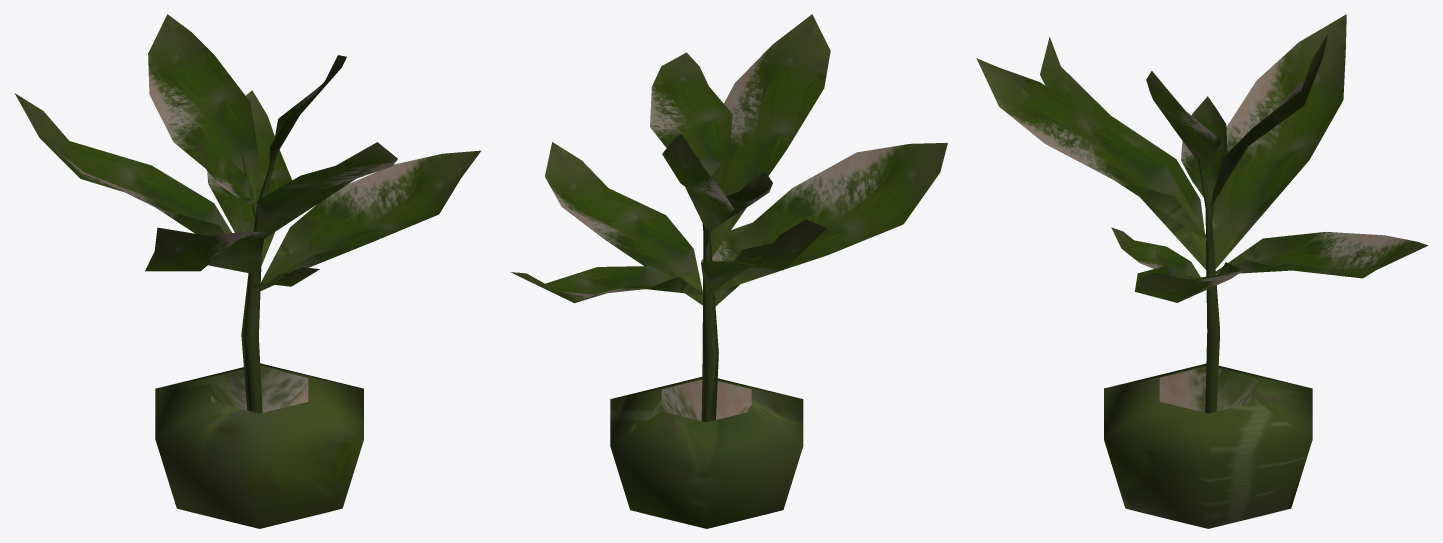
File: plant03.fbx
The picture shows the model from 3 angles, left to right: view 1: azimuth 30°, elevation 25°; view 2: azimuth 150°, elevation 25°; view 3: azimuth 270°, elevation 25°; orthographic projection. The views are drawn at different scales.
Visible parts, largest first — view 1: plant03; view 2: plant03; view 3: plant03.
Boxes of the visible parts, box(x1,y1,x2,y2) form: plant03: box(14, 14, 480, 528); plant03: box(510, 14, 947, 528); plant03: box(976, 14, 1428, 528).
Size of the model in its own units: 147 by 168 by 153.
